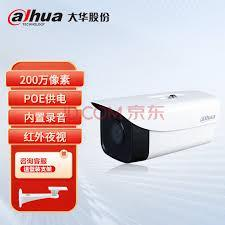tutu: (96, 88, 219, 160)
